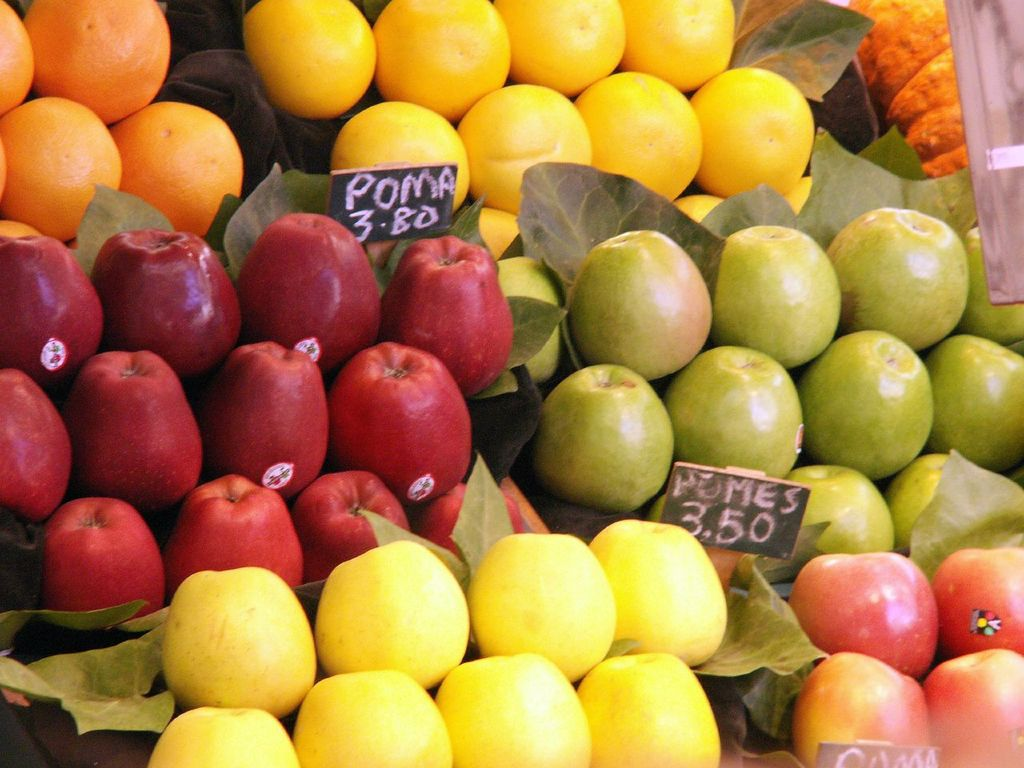Apple: (0, 230, 530, 631), (796, 543, 955, 671), (798, 659, 938, 767), (919, 640, 1023, 767), (931, 547, 1023, 662)
